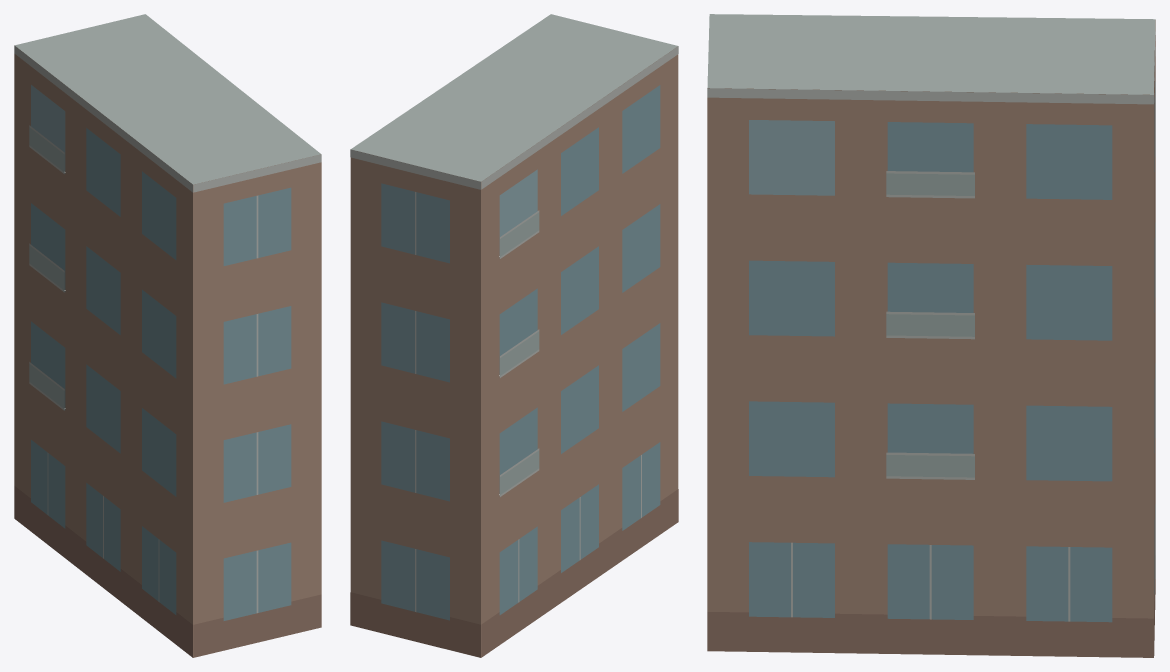
File: survey-upis-32507562.glb
3 views of the same model, side by side, from view 1: azimuth 30°, elevation 25°; view 2: azimuth 150°, elevation 25°; view 3: azimuth 270°, elevation 25° (orthographic). The views are drawn at different scales.
Visible parts, largest first — view 1: survey-upis-32507562.tmp; view 2: survey-upis-32507562.tmp; view 3: survey-upis-32507562.tmp.
Boxes of the visible parts, box(x1,y1,x2,y2) form: survey-upis-32507562.tmp: box(14, 14, 321, 657); survey-upis-32507562.tmp: box(350, 14, 678, 657); survey-upis-32507562.tmp: box(707, 14, 1155, 657).
Size of the model in its own units: 4.43 by 14.35 by 10.36.
